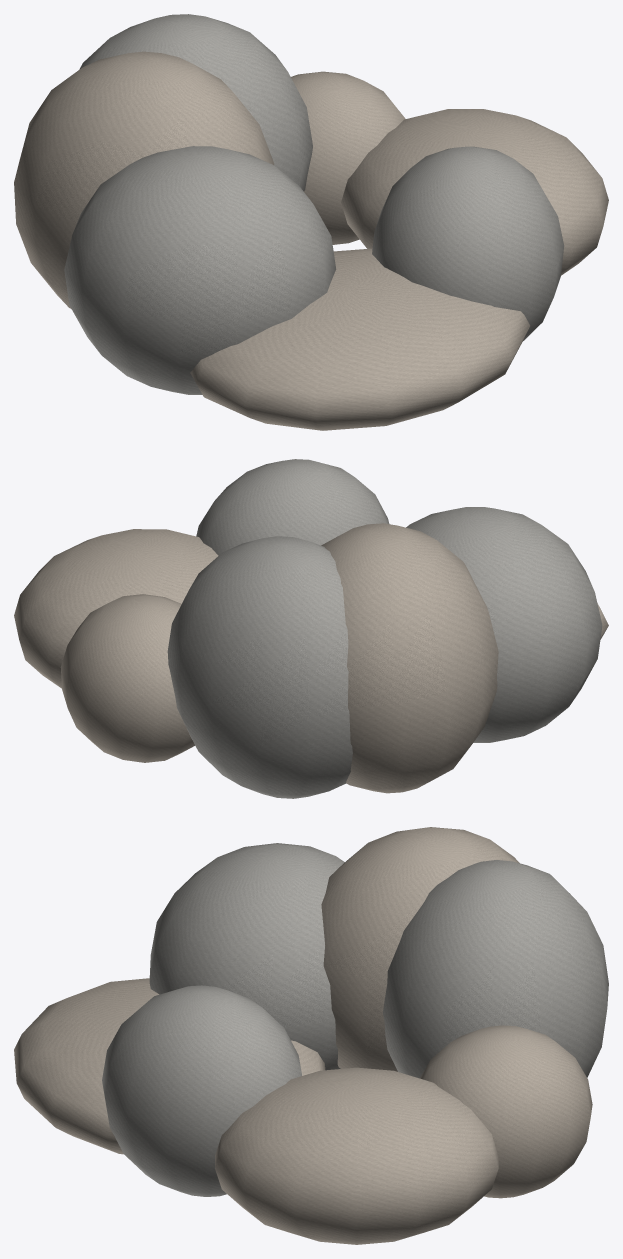
File: exotic-wildlife-hd-boulder-cluster-c210d6bb__30229.glb
3 renders of one model, top to bottom at view 1: azimuth 30°, elevation 25°; view 2: azimuth 150°, elevation 25°; view 3: azimuth 270°, elevation 25°, orthographic. The views are drawn at different scales.
Visible parts, largest first — view 1: boulder-cluster; view 2: boulder-cluster; view 3: boulder-cluster.
Part boxes in pixels (x1,y1,x2,y2): boulder-cluster: [14, 14, 608, 430]; boulder-cluster: [14, 459, 608, 798]; boulder-cluster: [14, 827, 608, 1244].
Size of the model in its own units: 3.78 by 1.72 by 3.63.
2 materials, 2 textured.
